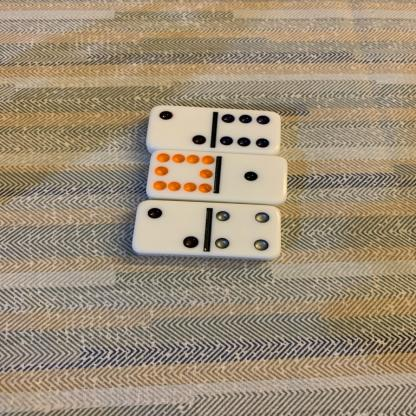pip-1: (216, 153, 288, 204)
pip-10: (147, 152, 215, 200)
pip-2: (132, 199, 206, 254), (147, 105, 212, 151)
pip-4: (207, 201, 281, 259)
pip-6: (213, 107, 280, 154)
